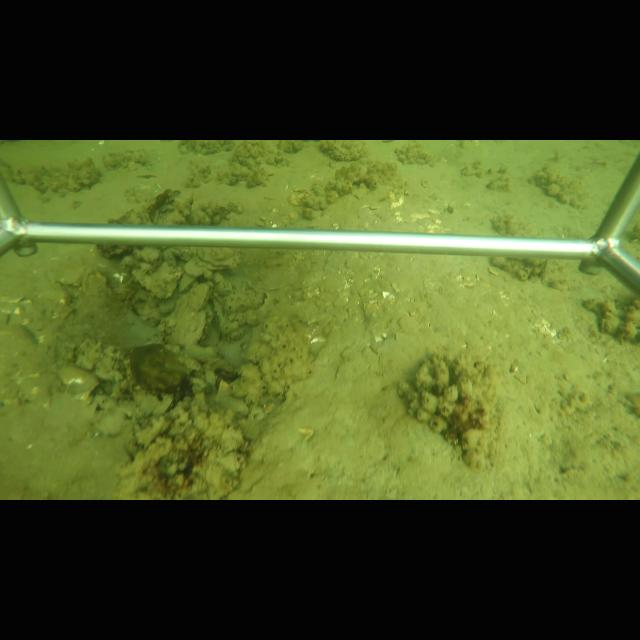Oyster-Closed: (158, 294, 209, 344), (188, 284, 211, 308), (178, 272, 197, 294)
